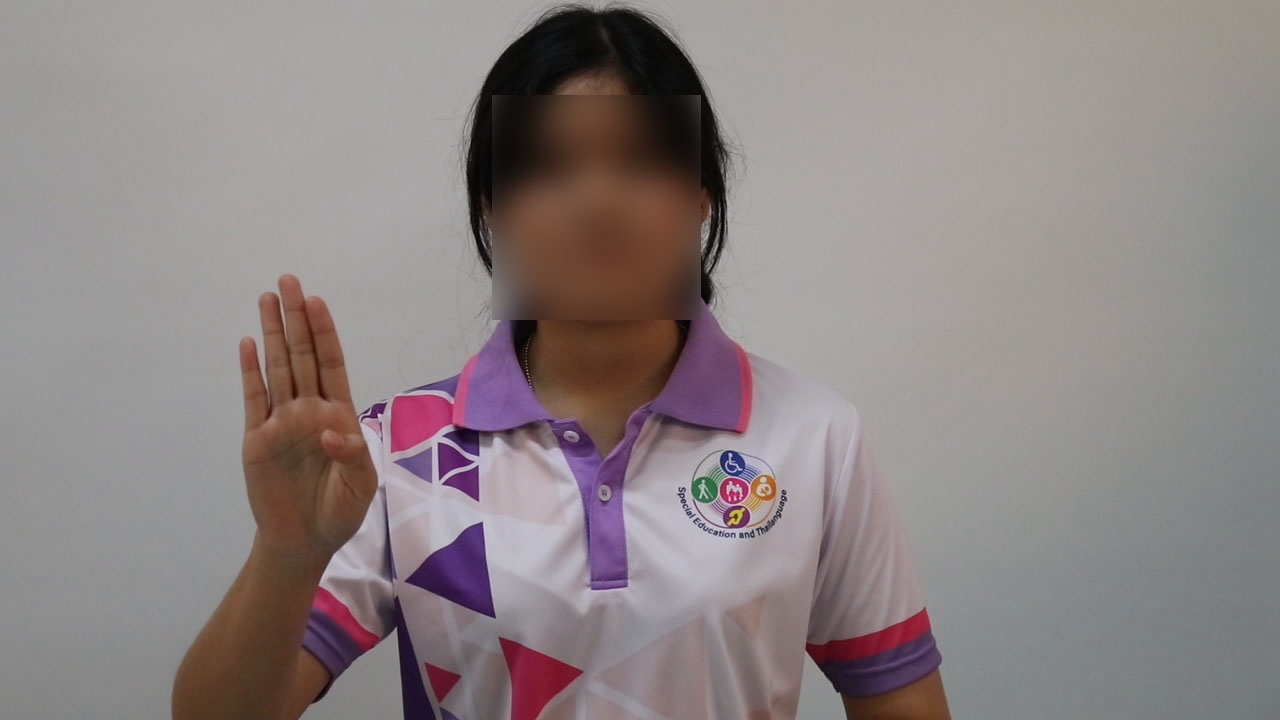bor: (227, 266, 392, 584)
